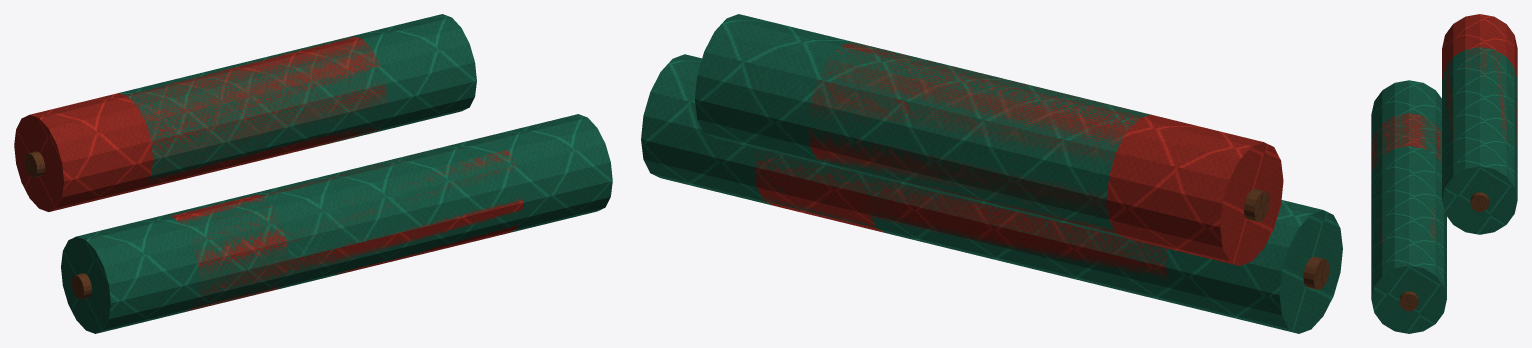
Rendered from silk_rolls.glb.
3 renders of one model, left to right at view 1: azimuth 30°, elevation 25°; view 2: azimuth 150°, elevation 25°; view 3: azimuth 270°, elevation 25°, orthographic. The views are drawn at different scales.
Parts seen in each view (by area): view 1: silk_rolls_Silk, silk_rolls_Brocade, silk_rolls_Walnut; view 2: silk_rolls_Silk, silk_rolls_Brocade, silk_rolls_Walnut; view 3: silk_rolls_Silk, silk_rolls_Brocade, silk_rolls_Walnut.
Part boxes in pixels (left/top/right/bottom): silk_rolls_Silk: left=61, top=14, right=612, bottom=333; silk_rolls_Brocade: left=14, top=35, right=523, bottom=311; silk_rolls_Walnut: left=25, top=151, right=91, bottom=299; silk_rolls_Silk: left=641, top=14, right=1342, bottom=333; silk_rolls_Brocade: left=754, top=42, right=1283, bottom=280; silk_rolls_Walnut: left=1244, top=188, right=1329, bottom=289; silk_rolls_Silk: left=1371, top=47, right=1517, bottom=333; silk_rolls_Brocade: left=1371, top=14, right=1517, bottom=245; silk_rolls_Walnut: left=1399, top=192, right=1489, bottom=311.
Bounding box in the file's own units: 1.92 × 0.63 × 0.62.
Materials: 3 (3 with a texture image).
